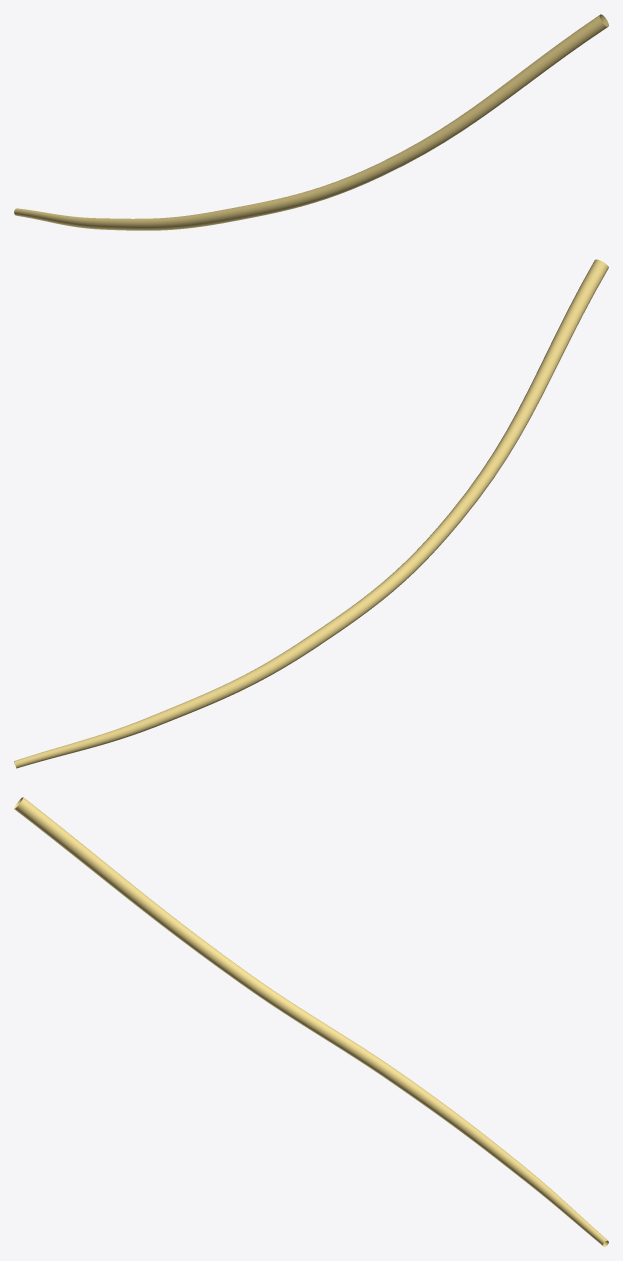
3 renders of one model, top to bottom at view 1: azimuth 90°, elevation 25°; view 2: azimuth 150°, elevation 25°; view 3: azimuth 270°, elevation 25°, orthographic. The views are drawn at different scales.
Parts seen in each view (by area): view 1: ZA_9049dc40aca90a8f; view 2: ZA_9049dc40aca90a8f; view 3: ZA_9049dc40aca90a8f.
Boxes of the visible parts, x1=… form: ZA_9049dc40aca90a8f: x1=14, y1=14, x2=608, y2=230; ZA_9049dc40aca90a8f: x1=14, y1=259, x2=608, y2=768; ZA_9049dc40aca90a8f: x1=14, y1=797, x2=608, y2=1246.
Size of the model in its own units: 0.0322 by 0.0378 by 0.0628.
